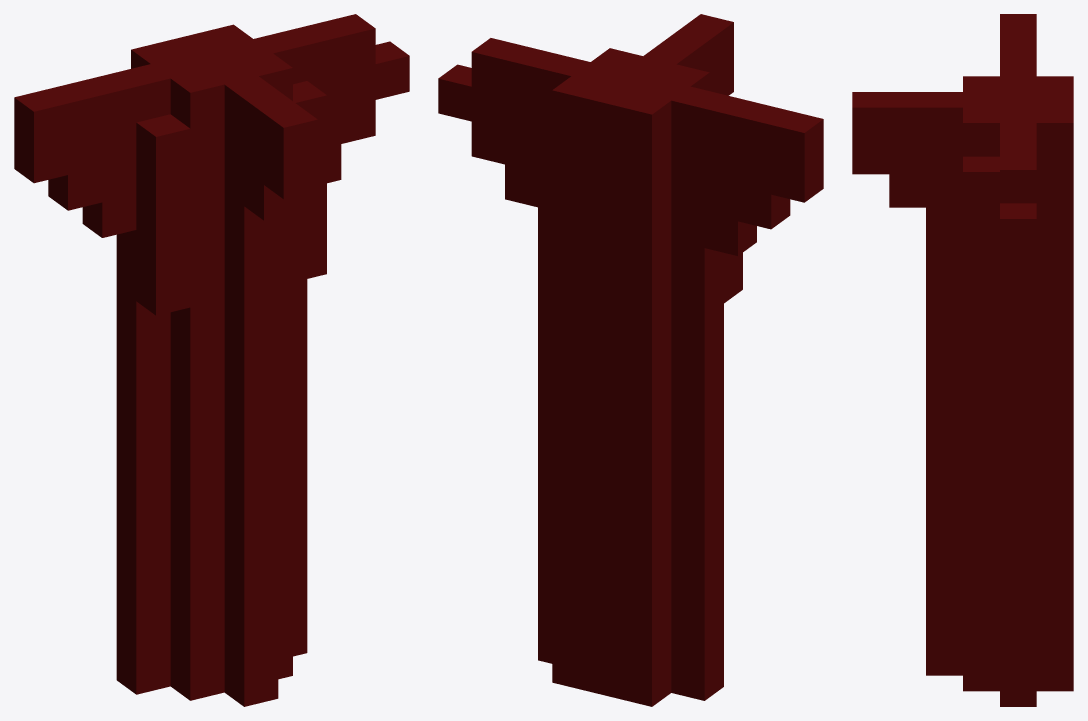
The model's file is TorpedoFull.vox.obj.
The picture shows the model from 3 angles, left to right: view 1: azimuth 30°, elevation 25°; view 2: azimuth 150°, elevation 25°; view 3: azimuth 270°, elevation 25°; orthographic projection. The views are drawn at different scales.
Size of the model in its own units: 1.1 by 1.7 by 0.6.
Materials: 1 (1 with a texture image).
